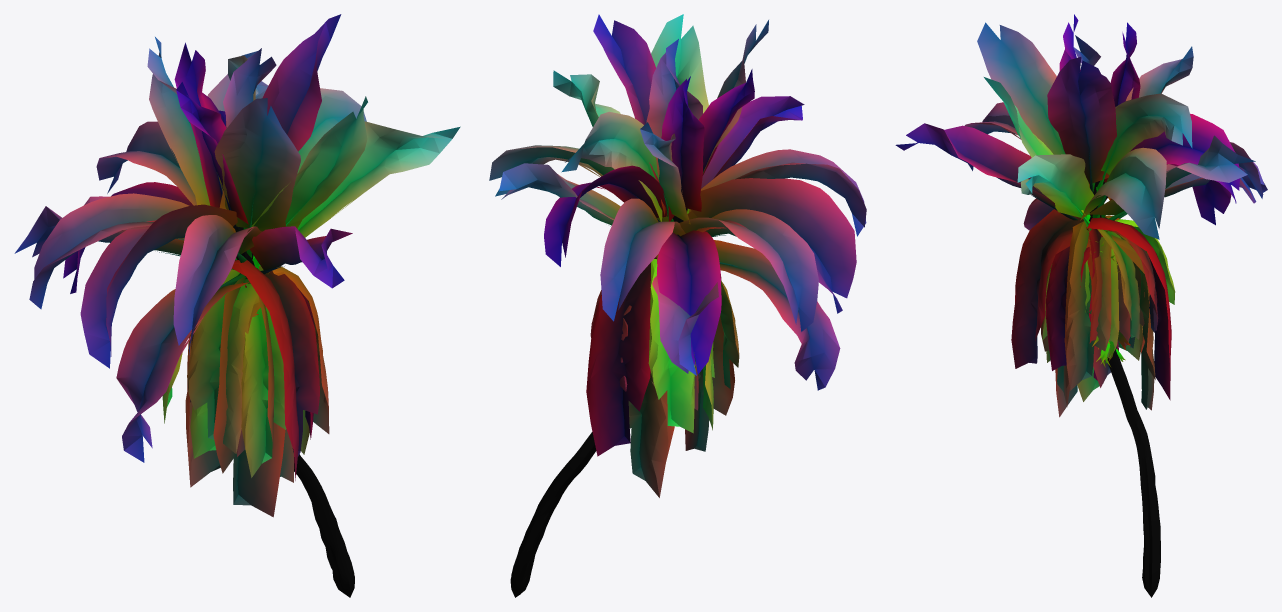
Rendered from Palm_2_Mesh.fbx.
3 renders of one model, left to right at view 1: azimuth 30°, elevation 25°; view 2: azimuth 150°, elevation 25°; view 3: azimuth 270°, elevation 25°, orthographic. The views are drawn at different scales.
Parts seen in each view (by area): view 1: Palm_2_LOD0; view 2: Palm_2_LOD0; view 3: Palm_2_LOD0.
Part boxes in pixels (x1,y1,x2,y2): Palm_2_LOD0: [14, 14, 460, 597]; Palm_2_LOD0: [489, 14, 866, 597]; Palm_2_LOD0: [895, 14, 1267, 597].
Size of the model in its own units: 729 by 1215 by 794.
